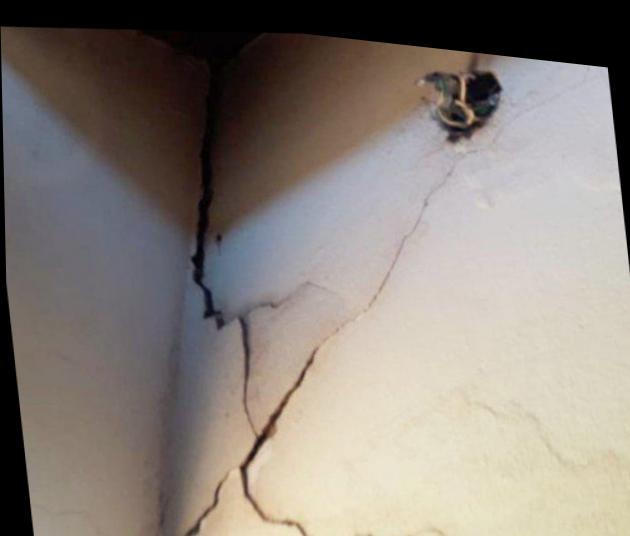crack: (177, 60, 488, 536), (461, 391, 582, 456), (414, 518, 456, 536)
